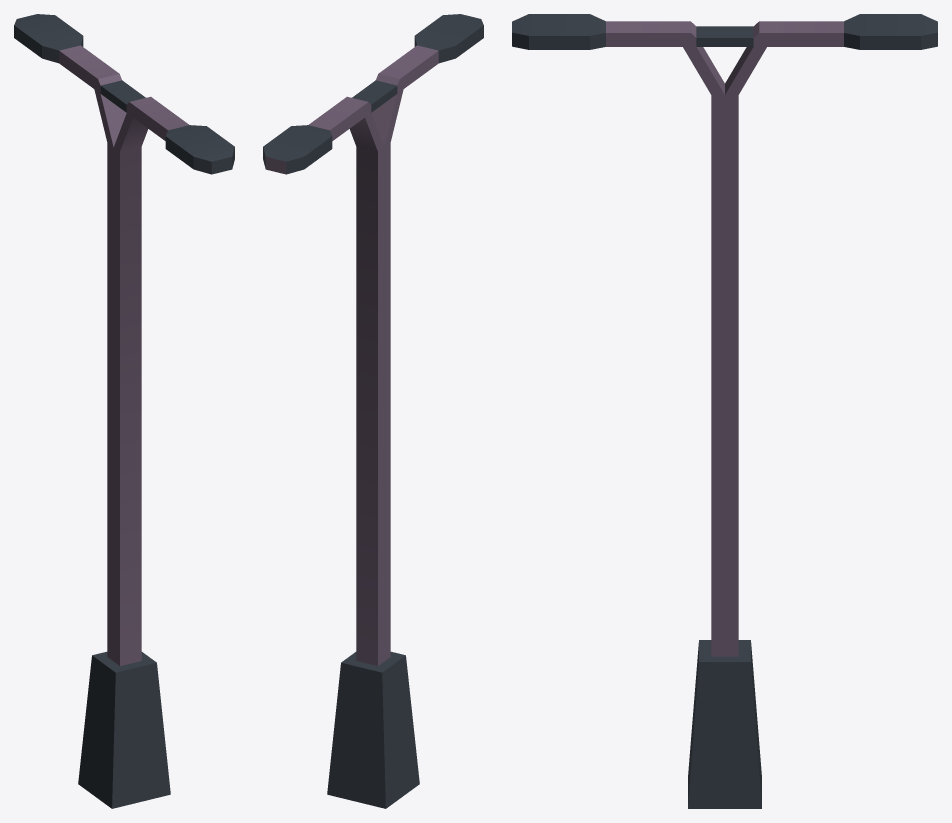
Rendered from Lamp_01.fbx.
3 views of the same model, side by side, from view 1: azimuth 30°, elevation 25°; view 2: azimuth 150°, elevation 25°; view 3: azimuth 270°, elevation 25° (orthographic). The views are drawn at different scales.
Parts seen in each view (by area): view 1: Cube; view 2: Cube; view 3: Cube.
Boxes of the visible parts, bbox=[...] form: Cube: bbox=[14, 14, 234, 808]; Cube: bbox=[263, 14, 483, 808]; Cube: bbox=[512, 14, 937, 808].
Size of the model in its own units: 28 by 320 by 161.
